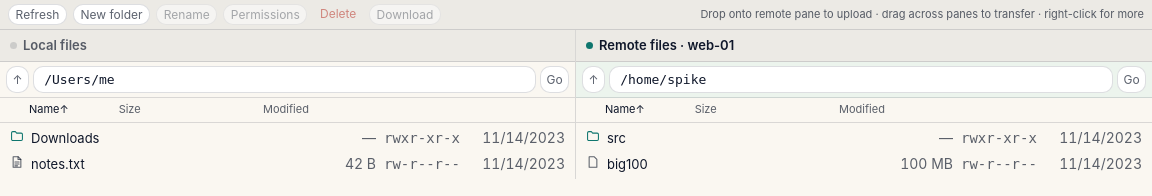
Test case: FilePanel › 路径栏 Enter 导航远端目录
expect the list with test id "file-list-remote" shows "big100": met, box [607,156,648,172]
Replace the text in the field named "Remote path" with "/home/spike/src". click: (861, 80)
box: [609,66,1113,94]
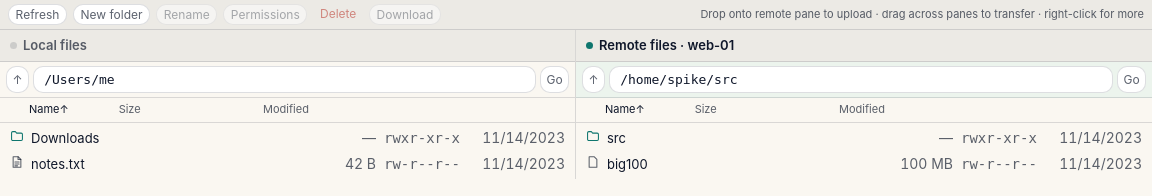
Press Enter in the field named "Remote path", box [609,66,1113,94]
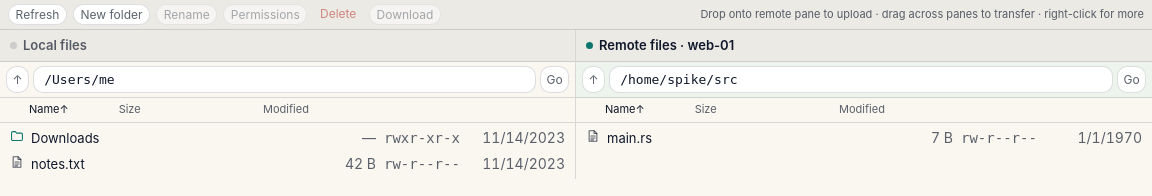
expect the list with test id "file-list-remote" shows "main.rs": met, box [607,130,652,146]
